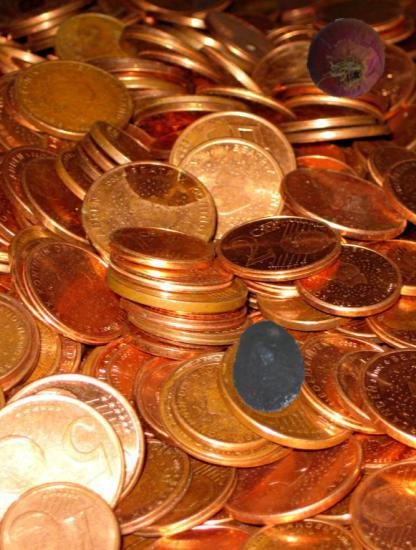Avocado: (225, 323, 313, 411)
Onion: (306, 18, 388, 100)
